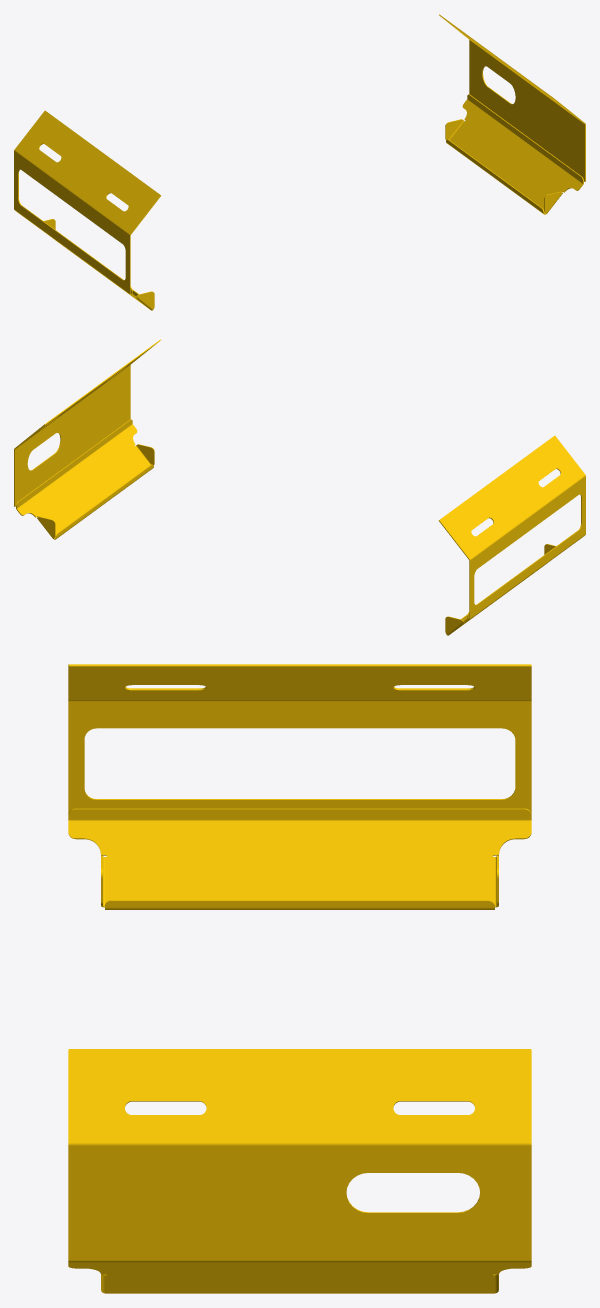
The model's file is livery.dae.
The picture shows the model from 3 angles, top to bottom: view 1: azimuth 30°, elevation 25°; view 2: azimuth 150°, elevation 25°; view 3: azimuth 270°, elevation 25°; orthographic projection. The views are drawn at different scales.
Parts seen in each view (by area): view 1: Shape_IndexedFaceSet.004, Shape_IndexedFaceSet.009, Shape_IndexedFaceSet.007, Shape_IndexedFaceSet.008; view 2: Shape_IndexedFaceSet.004, Shape_IndexedFaceSet.009, Shape_IndexedFaceSet.007, Shape_IndexedFaceSet.008; view 3: Shape_IndexedFaceSet.007, Shape_IndexedFaceSet.008, Shape_IndexedFaceSet.004, Shape_IndexedFaceSet.009.
Boxes of the visible parts, x1,y1,x2,y2 form: Shape_IndexedFaceSet.004: [14, 110, 161, 296]; Shape_IndexedFaceSet.009: [445, 94, 583, 214]; Shape_IndexedFaceSet.007: [439, 14, 585, 181]; Shape_IndexedFaceSet.008: [44, 219, 154, 310]; Shape_IndexedFaceSet.004: [438, 435, 585, 621]; Shape_IndexedFaceSet.009: [16, 419, 154, 539]; Shape_IndexedFaceSet.007: [14, 339, 160, 506]; Shape_IndexedFaceSet.008: [445, 544, 555, 635]; Shape_IndexedFaceSet.007: [68, 1049, 531, 1260]; Shape_IndexedFaceSet.008: [68, 808, 531, 909]; Shape_IndexedFaceSet.004: [68, 664, 531, 813]; Shape_IndexedFaceSet.009: [68, 1260, 531, 1293].
Size of the model in its own units: 0.8547 by 0.376 by 0.219.
